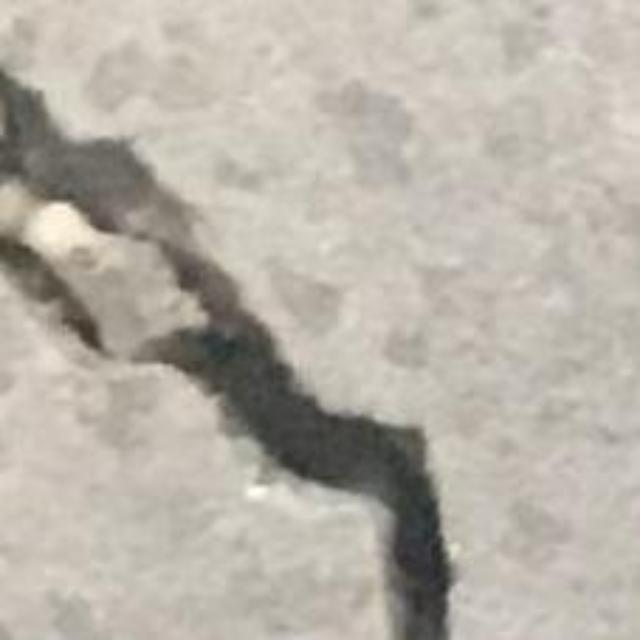crack: (0, 68, 453, 639)
